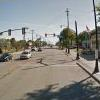Traffic light: (5, 26, 32, 40)
